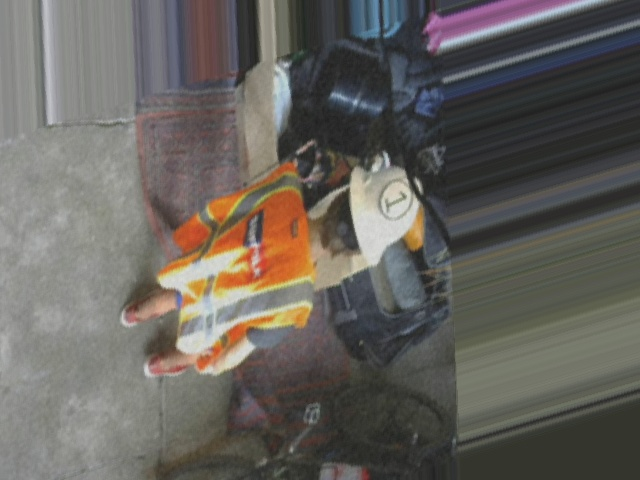one: (378, 174, 412, 223)
